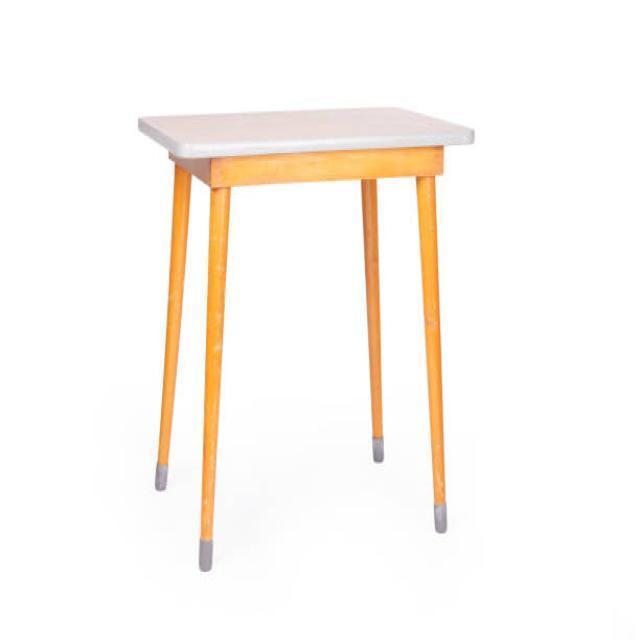table: (137, 105, 475, 571)
